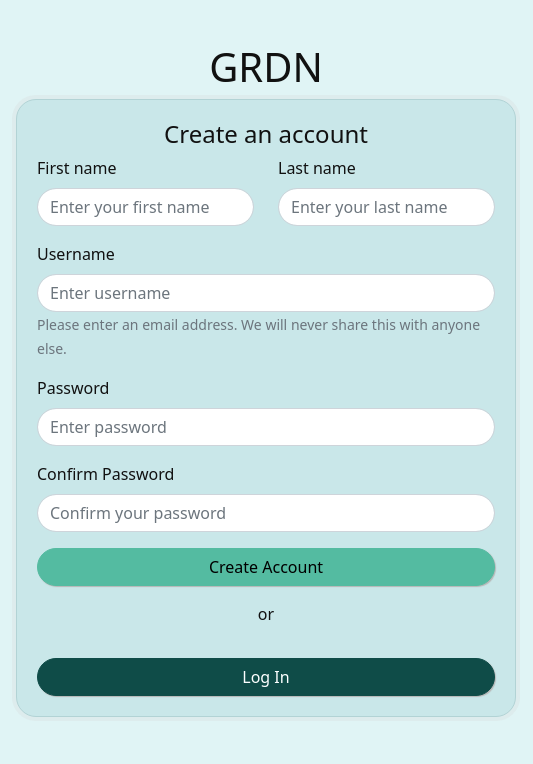
Create-Account › If passwords don't match, Error message doesn't match
Type "James" into the field labelled "First name" at (146, 207), box [37, 188, 254, 226]
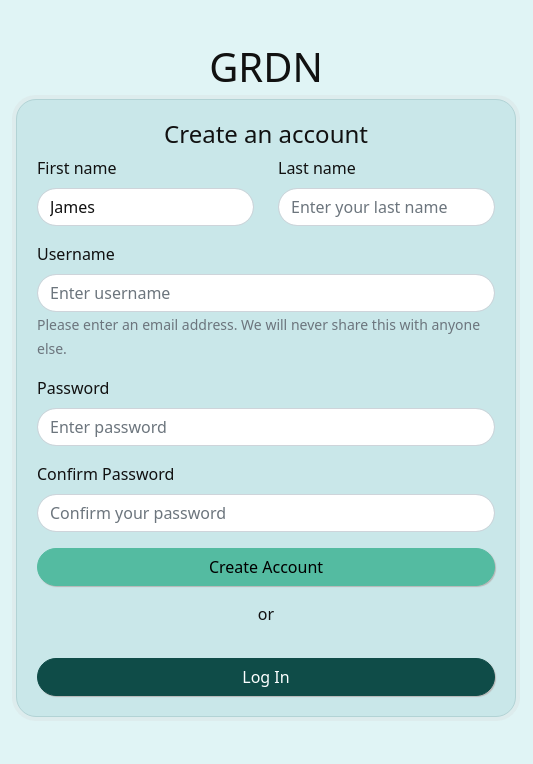
Type "Arthur" into the field labelled "Last name" at (386, 207), box [278, 188, 495, 226]
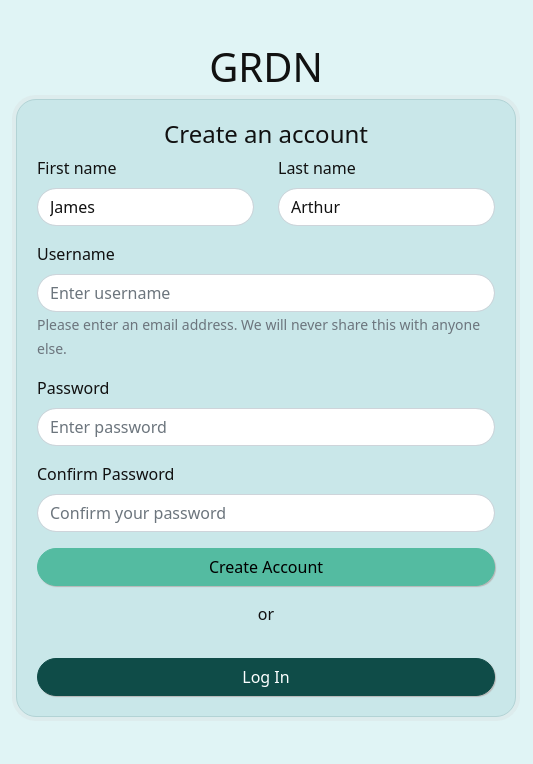
Type "user@email.com" into the field labelled "Username" at (266, 293), box [37, 274, 495, 312]
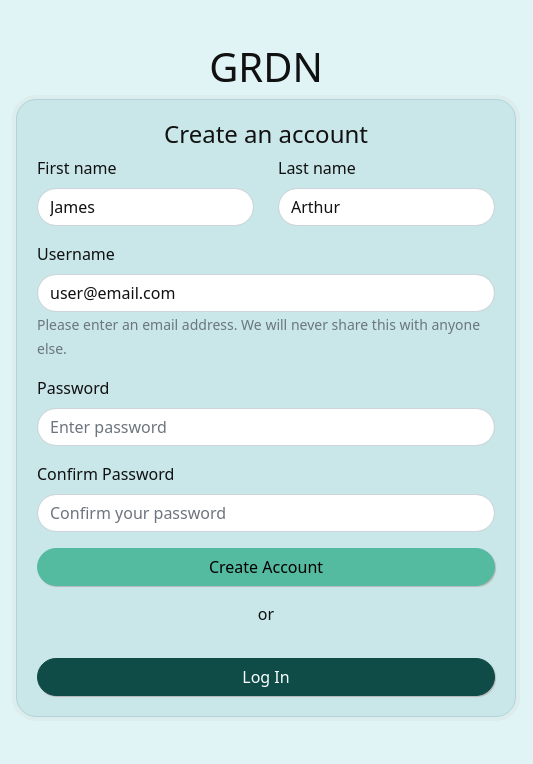
Type "password" into the password field labelled "Password" at (266, 427), box [37, 408, 495, 446]
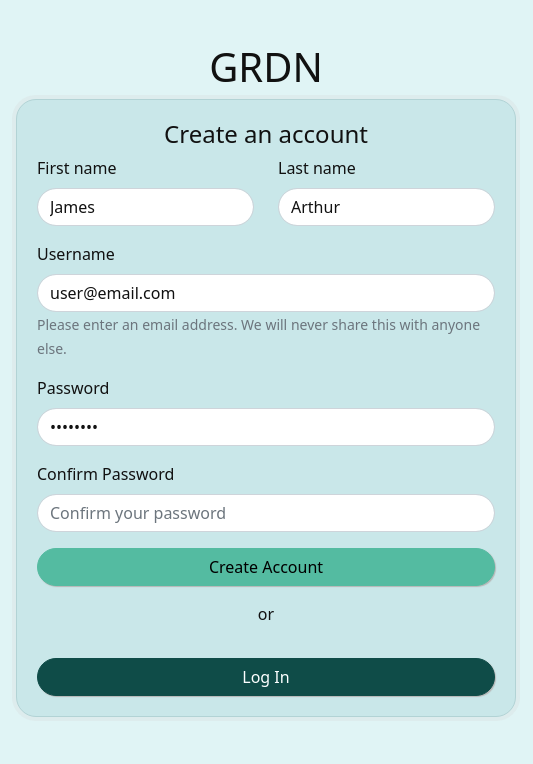
Type "password" into the password field labelled "Confirm Password" at (266, 513), box [37, 494, 495, 532]
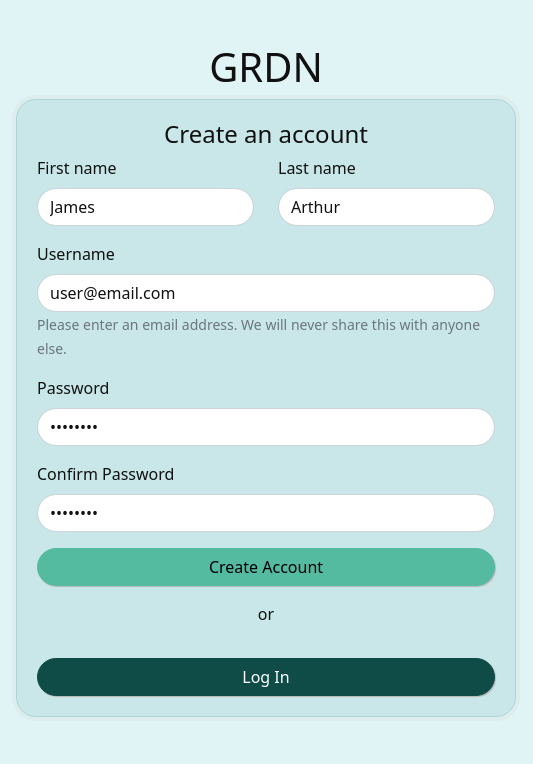
Click the button "Create Account" at (266, 567), box [37, 548, 495, 586]
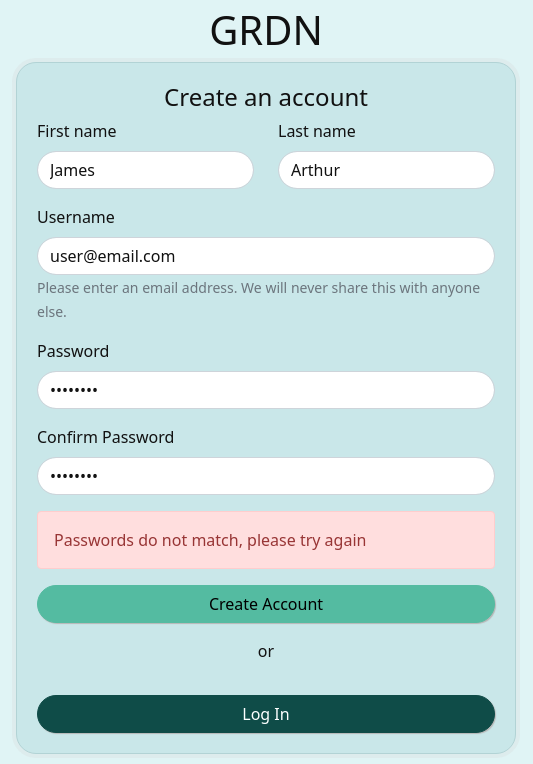
Expected: the text "Passwords do not match, please try again" is shown, [37, 511, 495, 569]
